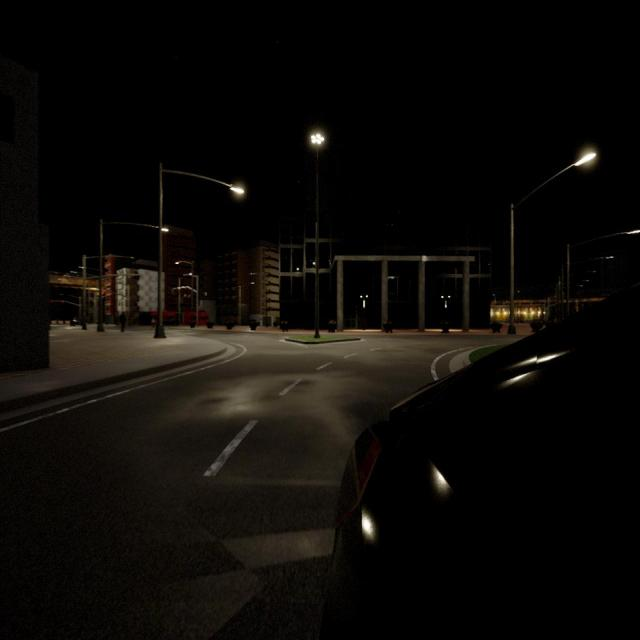Pedestrian: (120, 312, 125, 332)
Vehicle: (332, 296, 640, 637), (71, 318, 81, 326)
traffic_light: (50, 300, 54, 303), (62, 300, 64, 304)
